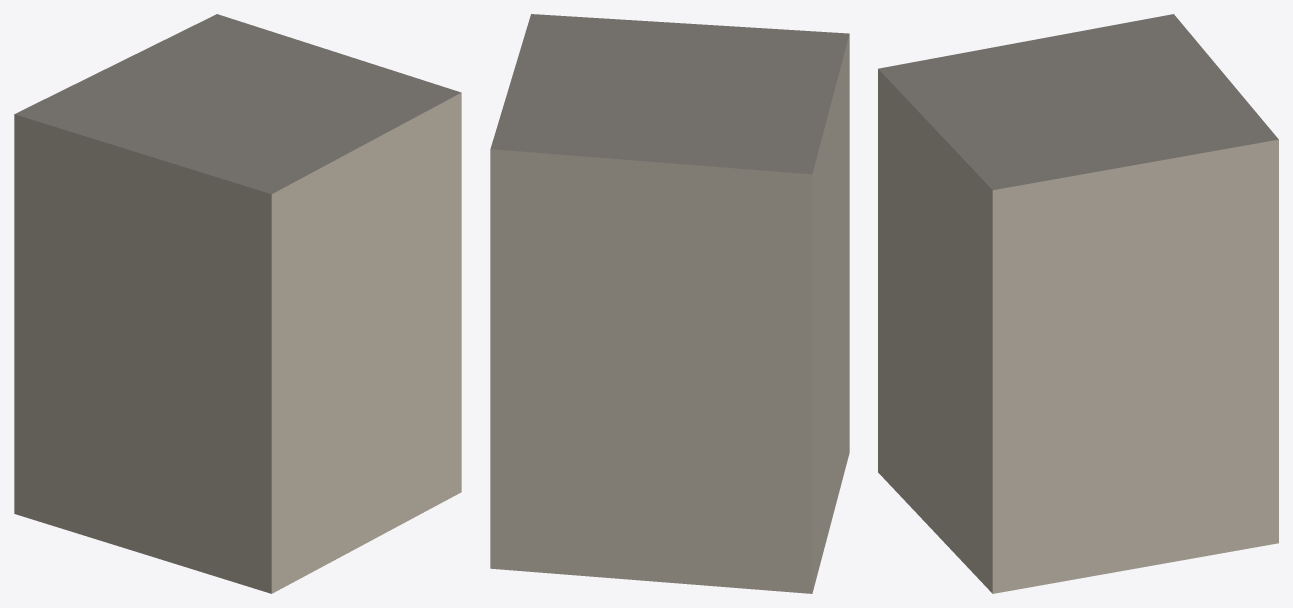
The picture shows the model from 3 angles, left to right: view 1: azimuth 30°, elevation 25°; view 2: azimuth 150°, elevation 25°; view 3: azimuth 270°, elevation 25°; orthographic projection. The views are drawn at different scales.
Parts seen in each view (by area): view 1: HP-w505659391; view 2: HP-w505659391; view 3: HP-w505659391.
Boxes of the visible parts, x1,y1,x2,y2 form: HP-w505659391: [14, 14, 461, 593]; HP-w505659391: [490, 14, 849, 593]; HP-w505659391: [878, 14, 1278, 593].
Size of the model in its own units: 16.86 by 18 by 16.2.
